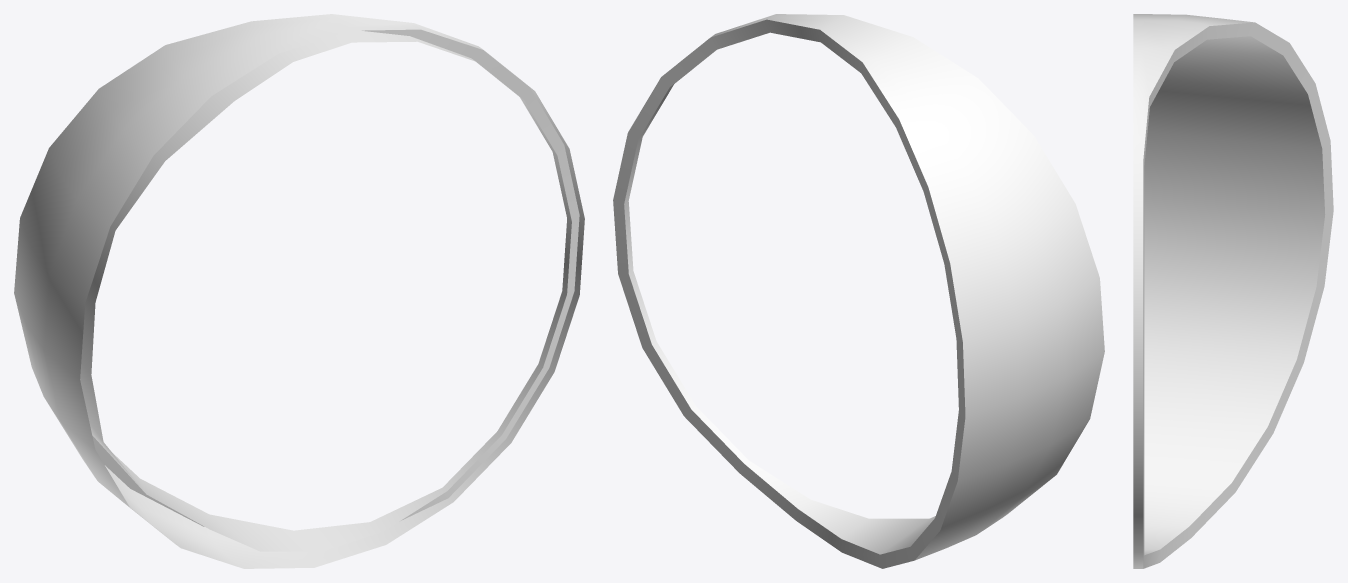
File: LShoulderPitch.dae
3 views of the same model, side by side, from view 1: azimuth 30°, elevation 25°; view 2: azimuth 150°, elevation 25°; view 3: azimuth 270°, elevation 25° (orthographic). The views are drawn at different scales.
Visible parts, largest first — view 1: LShoulderPitch; view 2: LShoulderPitch; view 3: LShoulderPitch.
Part boxes in pixels (x1,y1,x2,y2): LShoulderPitch: [14, 14, 584, 568]; LShoulderPitch: [613, 14, 1104, 568]; LShoulderPitch: [1133, 14, 1333, 568].
Size of the model in its own units: 0.6598 by 0.2384 by 0.6598.
Materials: 1 (1 with a texture image).
